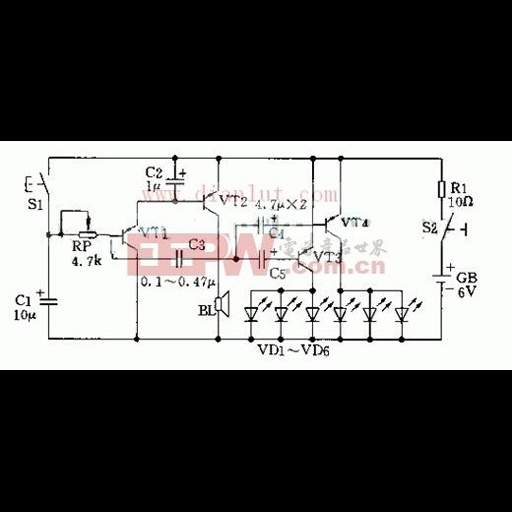battery: (431, 262, 454, 284)
capacitor: (170, 249, 189, 270)
firstpolarcapacitor: (254, 245, 278, 270), (253, 214, 278, 235), (35, 287, 59, 308), (164, 169, 189, 187)
firstresistance: (434, 178, 448, 201)
loudspeaker: (212, 289, 233, 320)
npn: (197, 185, 222, 220), (113, 222, 139, 253)
pnp: (293, 245, 315, 276), (322, 208, 343, 240)
secondled: (362, 293, 393, 327), (395, 291, 425, 326), (272, 293, 302, 327), (241, 293, 271, 326), (330, 295, 361, 326), (304, 293, 332, 327)
